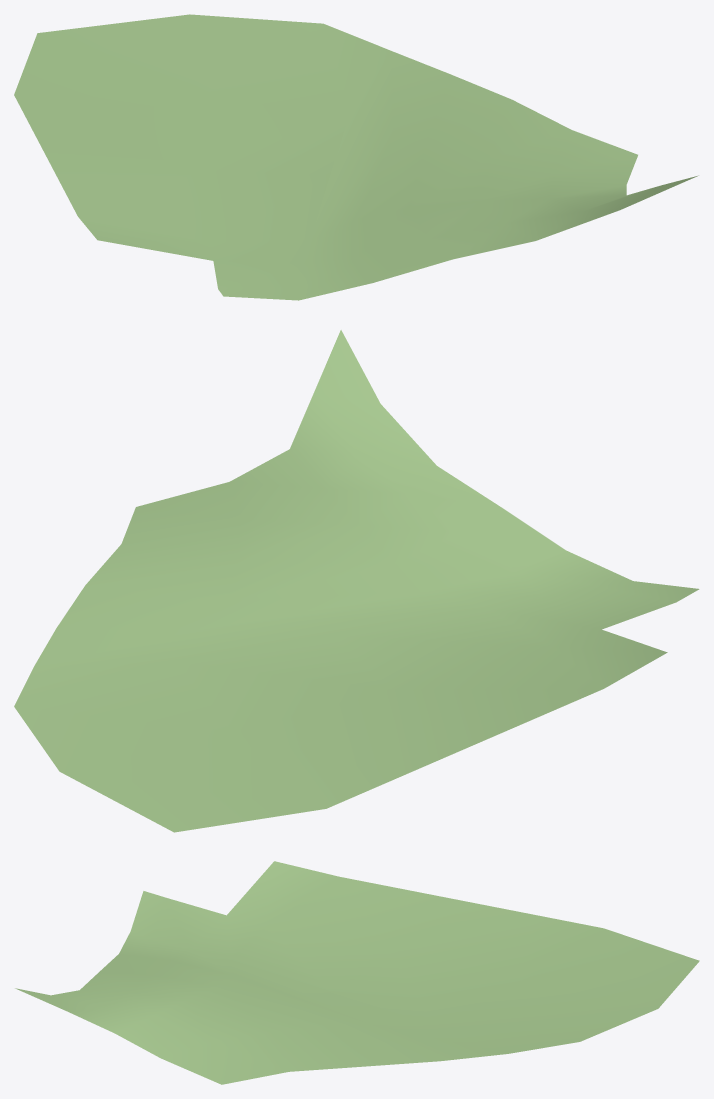
File: level_17.fbx
The picture shows the model from 3 angles, top to bottom: view 1: azimuth 30°, elevation 25°; view 2: azimuth 150°, elevation 25°; view 3: azimuth 270°, elevation 25°; orthographic projection. The views are drawn at different scales.
Parts seen in each view (by area): view 1: loc_017; view 2: loc_017; view 3: loc_017.
Part boxes in pixels (x1,y1,x2,y2): loc_017: [14, 14, 698, 300]; loc_017: [14, 330, 699, 832]; loc_017: [15, 861, 699, 1084].
Size of the model in its own units: 34.97 by 6.25 by 48.27.
